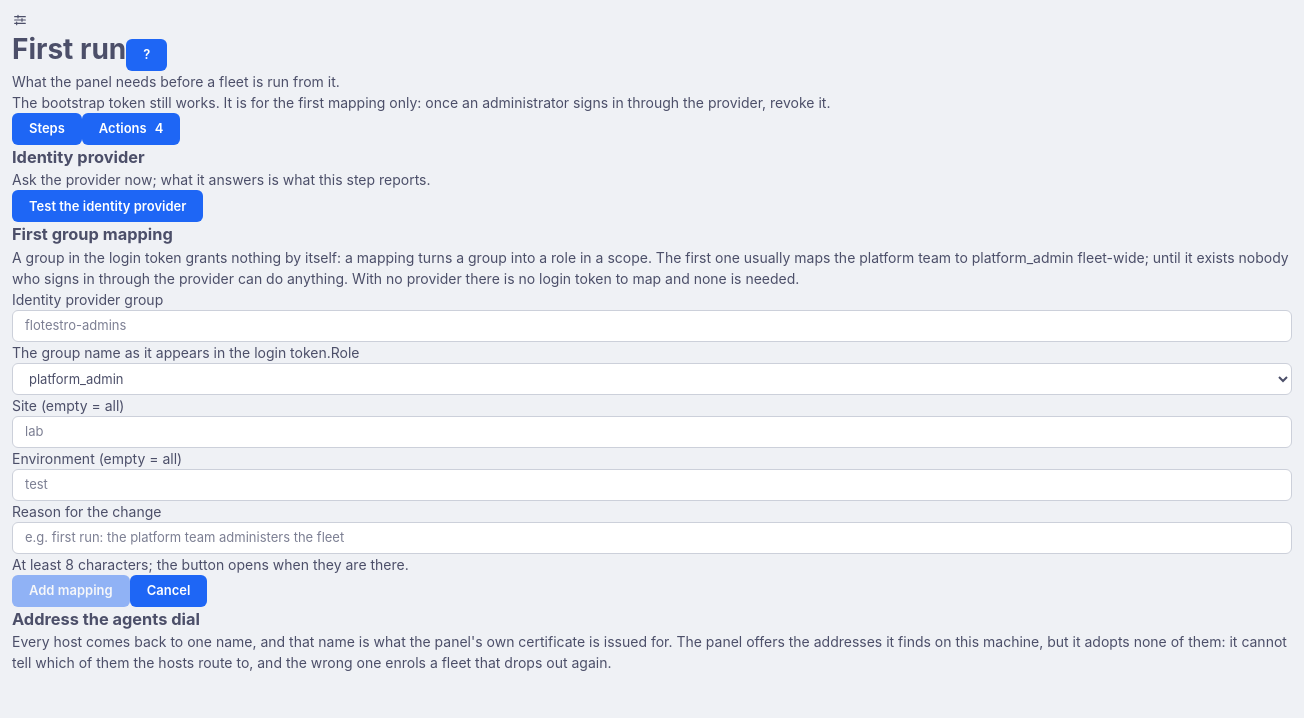
Test case: the first run › tests the identity provider where the reader may, and says what answered
The image size is (1304, 718).
What coordinates should you click on to do the following:
click the button with test id "test-oidc"
I would click on:
 (108, 206)
Its box is [12,190,203,222].
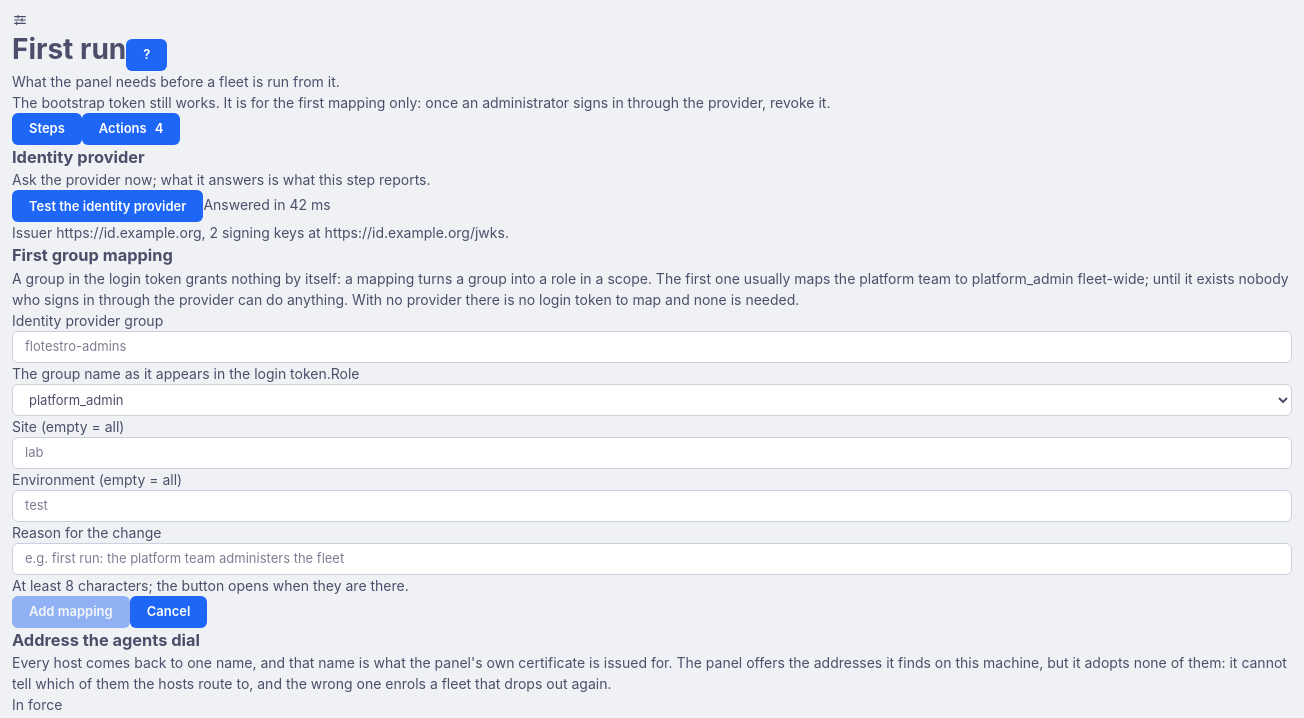
Result: the text with test id "test-oidc-verdict" reads "Answered in 42 ms" at [203,197,331,214]
Result: the text "Issuer https://id.example.org, 2 signing keys at https://id.example.org/jwks." is shown at [12,224,509,241]
